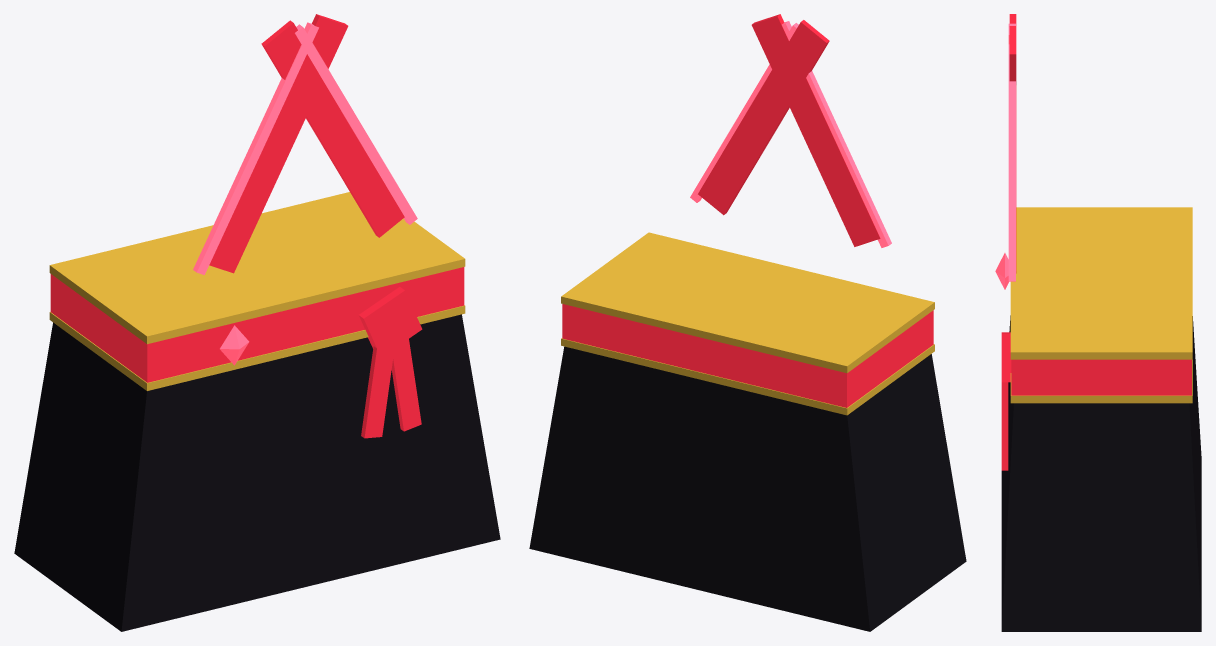
File: eqf_eqko4.glb
The picture shows the model from 3 angles, left to right: view 1: azimuth 30°, elevation 25°; view 2: azimuth 150°, elevation 25°; view 3: azimuth 270°, elevation 25°; orthographic projection. The views are drawn at different scales.
Size of the model in its own units: 2.54 by 3.6 by 1.28.
